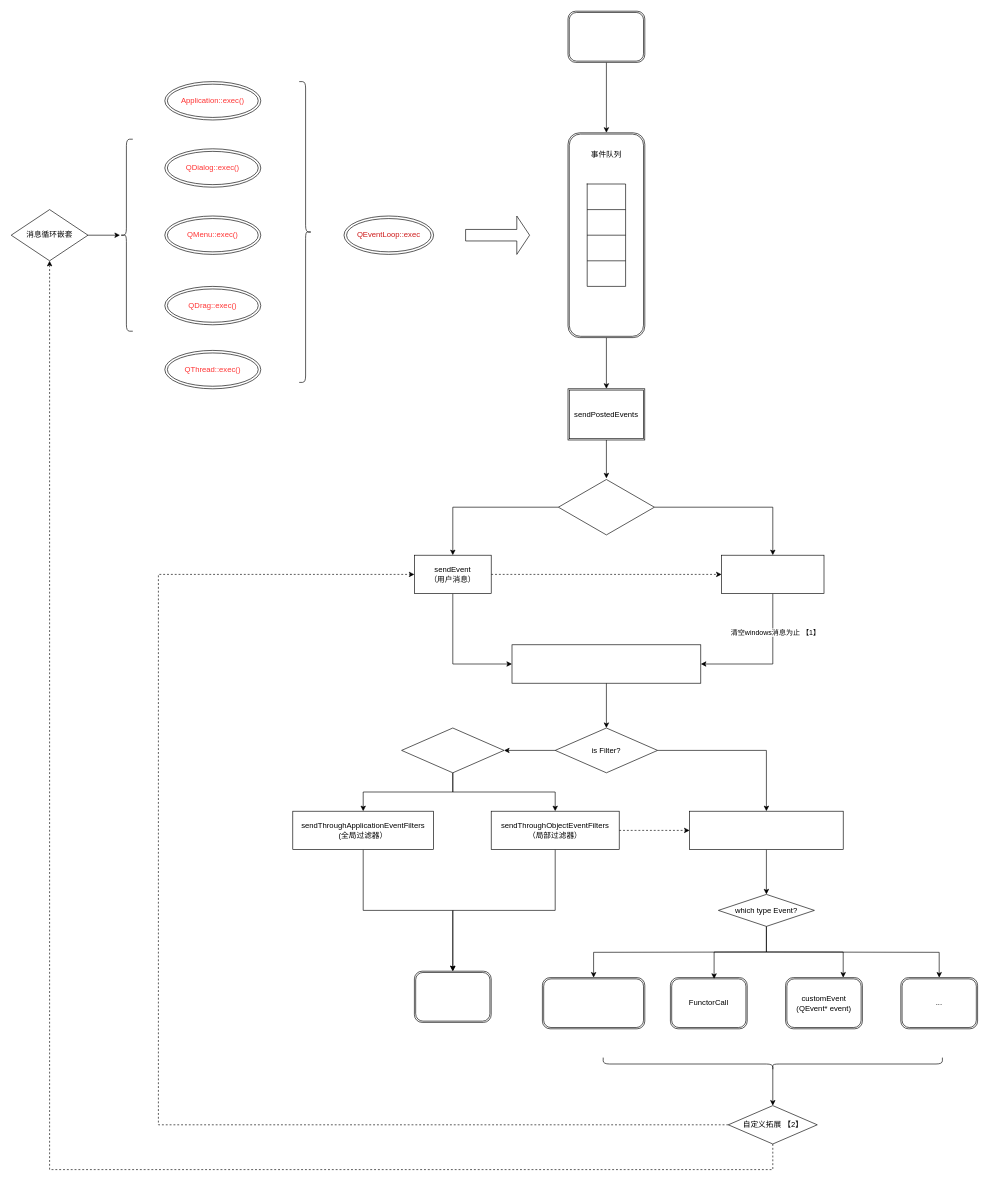
Some shapes in this 989 by 1186 pixel diagram are drawn without their labels. The centre of each missing label's shape, as x and y in pixels:
"eventFilter" belongs at point (452, 996).
"handleMouseEvent (QMouseEvent *event)" belongs at point (593, 1003).
"is global Filter?" belongs at point (452, 750).
"is window Event ?" belongs at point (606, 507).
"postEvent" belongs at point (606, 36).
"QApplication::notify(QObject *receiver, QEvent *e) （app事件分发总入口）" belongs at point (606, 663).
"QObject::event(QEvent *e) （事件基类：责任链模式向上传递）" belongs at point (766, 830).
"sendWindowSystemEvents （系统消息）" belongs at point (772, 574).
